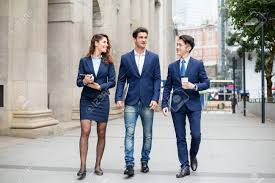no-mask: (170, 34, 198, 61), (88, 31, 112, 57), (131, 24, 150, 52)
